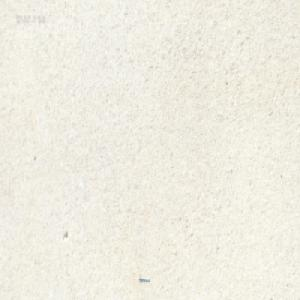Nail: (138, 273, 150, 282)
